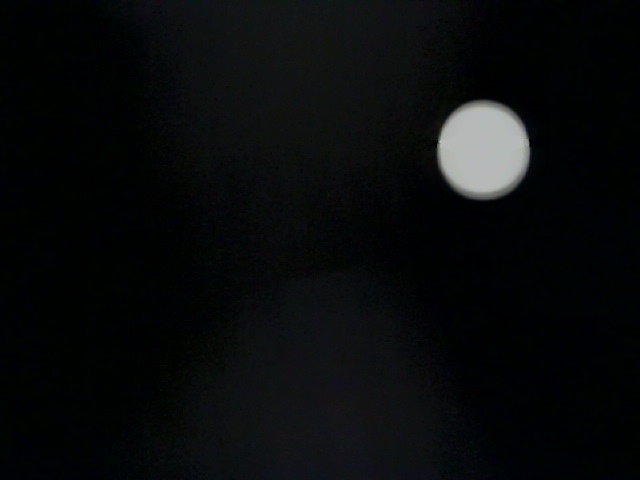YHLJ: (132, 296, 425, 383)
